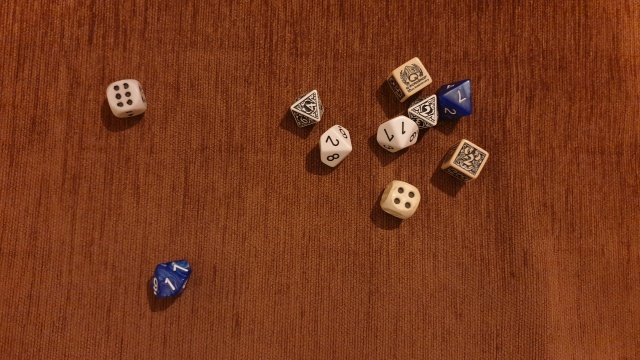d10-1: (141, 254, 199, 304), (362, 111, 422, 159)
d10-2: (316, 124, 355, 173)
d10-7: (438, 77, 480, 124)
d6-4: (375, 177, 423, 222)
d6-6: (100, 76, 152, 119)
d6p-2: (439, 136, 488, 187)
d6p-6: (383, 53, 434, 103)
d8p-2: (406, 93, 441, 131)
d8p-4: (288, 88, 326, 131)
